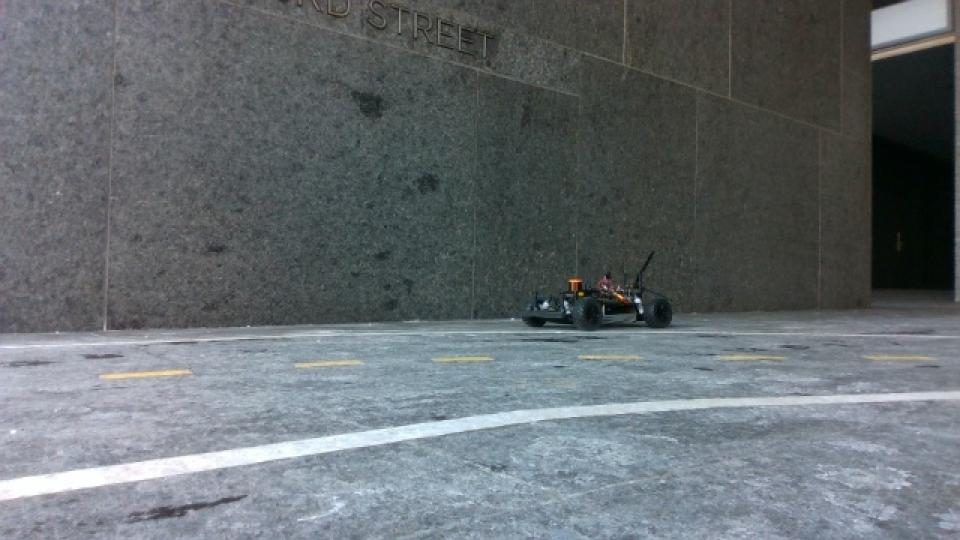car: (517, 247, 675, 333)
